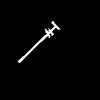treble_crochet: (18, 22, 59, 62)
